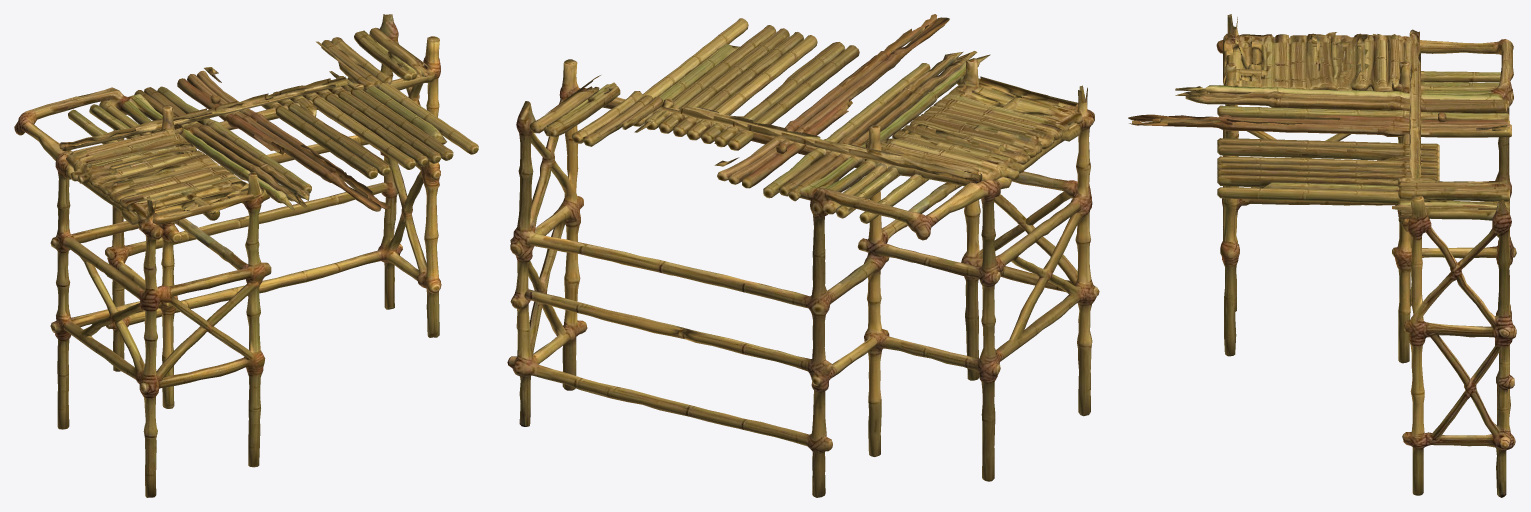
Rendered from bamboopanel.glb.
The picture shows the model from 3 angles, left to right: view 1: azimuth 30°, elevation 25°; view 2: azimuth 150°, elevation 25°; view 3: azimuth 270°, elevation 25°; orthographic projection. The views are drawn at different scales.
Size of the model in its own units: 1.91 by 1.39 by 1.62.
1 material, 1 textured.
